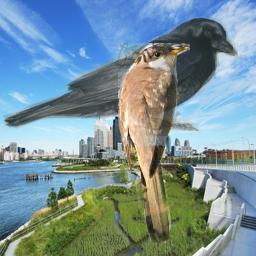Crow: (2, 16, 238, 131)
Cuckoo: (118, 43, 190, 243)
